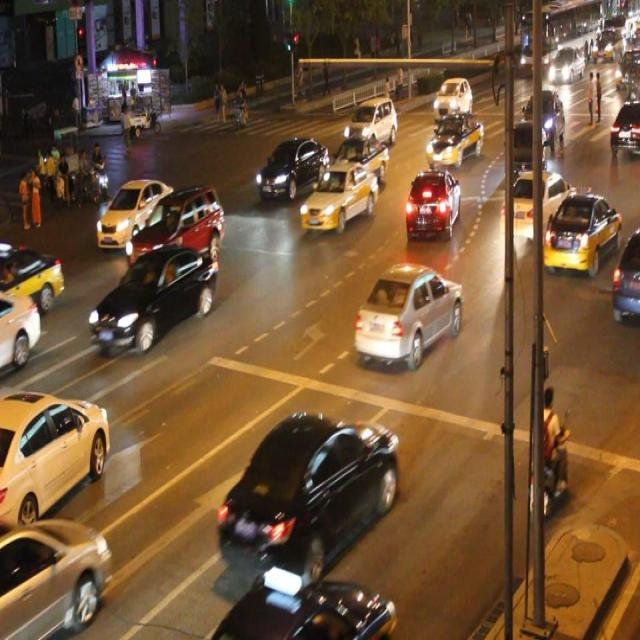car: (218, 413, 398, 570), (0, 390, 110, 524), (0, 516, 110, 640), (89, 242, 216, 349), (216, 576, 394, 640), (354, 263, 462, 363), (128, 182, 224, 271), (543, 190, 621, 272), (97, 180, 178, 248), (299, 160, 378, 229), (501, 168, 572, 238), (1, 241, 66, 317), (256, 136, 328, 199), (404, 168, 460, 239), (321, 135, 387, 194), (1, 288, 41, 370), (424, 111, 482, 166), (343, 96, 396, 147), (610, 229, 640, 319), (503, 120, 544, 184), (608, 100, 640, 156)
